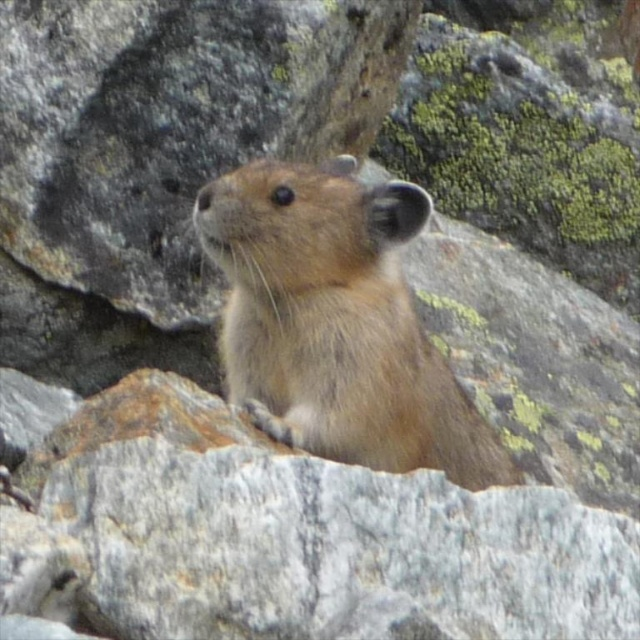Squirrel: (192, 154, 521, 492)
